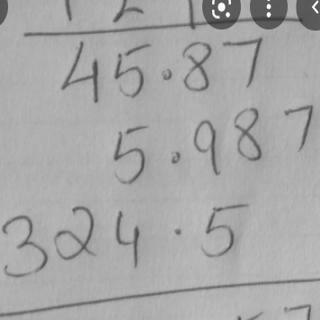.: (168, 146, 187, 164), (158, 62, 176, 80), (168, 220, 186, 238)
2: (55, 204, 96, 260)
3: (1, 214, 49, 279)
4: (60, 41, 101, 110), (114, 210, 142, 270)
5: (206, 198, 252, 260), (114, 123, 149, 183), (115, 41, 149, 99)
7: (224, 37, 264, 87), (285, 105, 314, 154)
8: (231, 104, 262, 161), (182, 39, 213, 92)
9: (192, 118, 221, 174)
